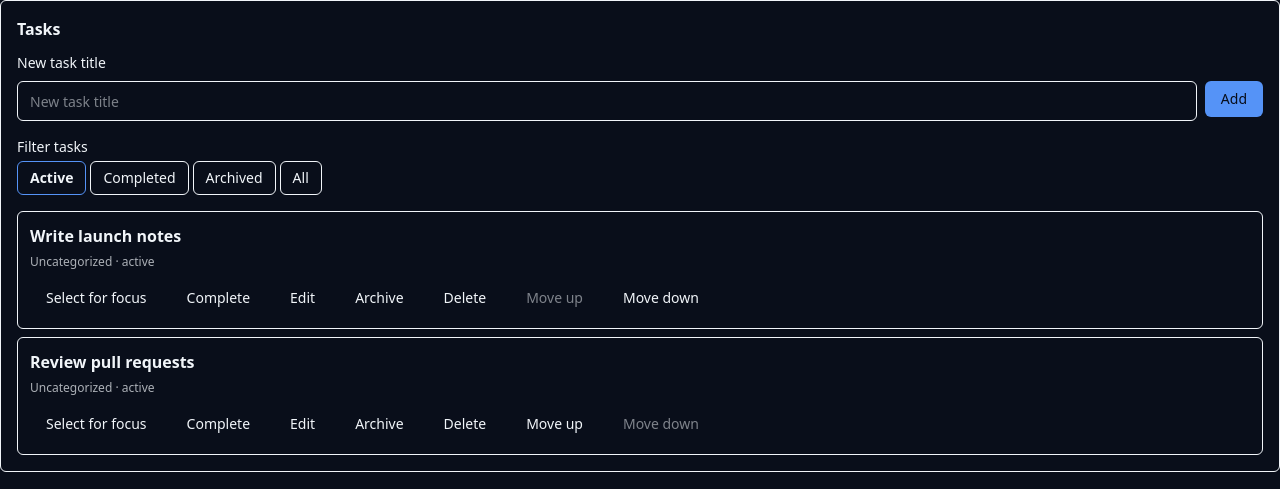
Scenario: <TaskPanel /> row actions (slice 4) › completes an active task and announces it
Expected: the list item "Write launch notes" is shown, x1=30 y1=225 x2=181 y2=247
Click the button "Complete" below "Write launch notes" at [218, 298], box x1=171 y1=280 x2=266 y2=316
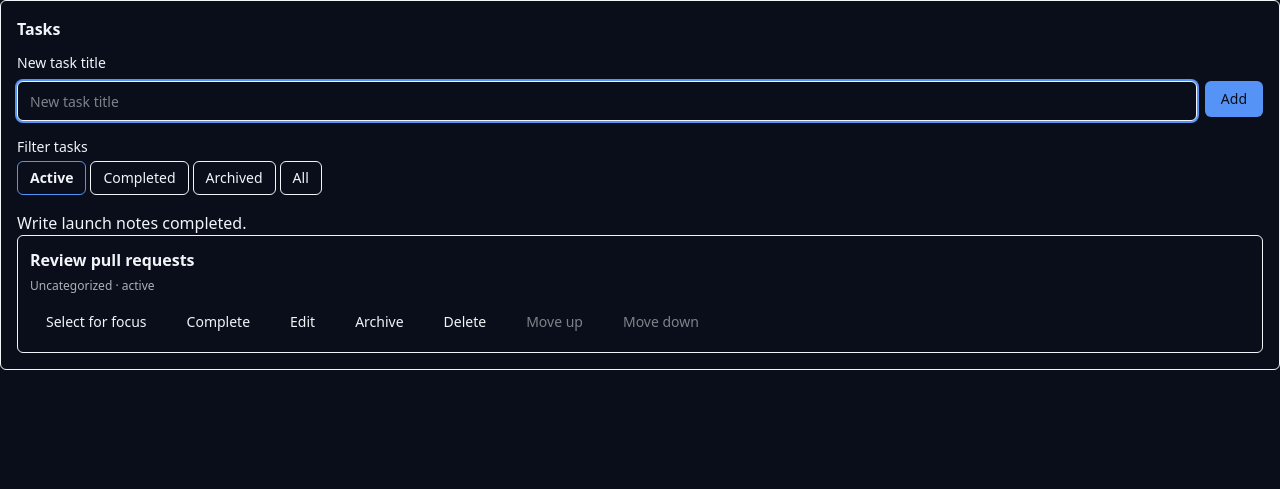
Expected: the text "Review pull requests" is shown, x1=30 y1=249 x2=195 y2=271
Now the text "Write launch notes completed." is shown, box x1=17 y1=212 x2=246 y2=234
